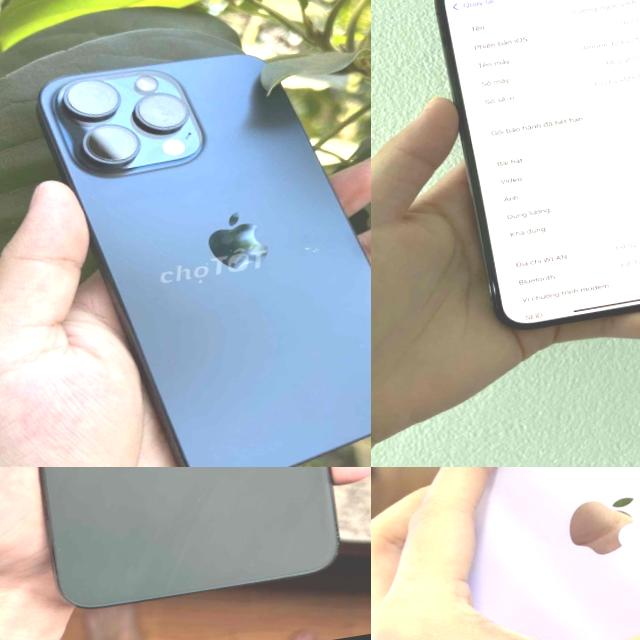gen_11: (0, 467, 364, 624)
gen_12_13: (432, 0, 640, 343)
gen_14: (374, 467, 640, 640)
gen_15: (27, 10, 371, 467)
